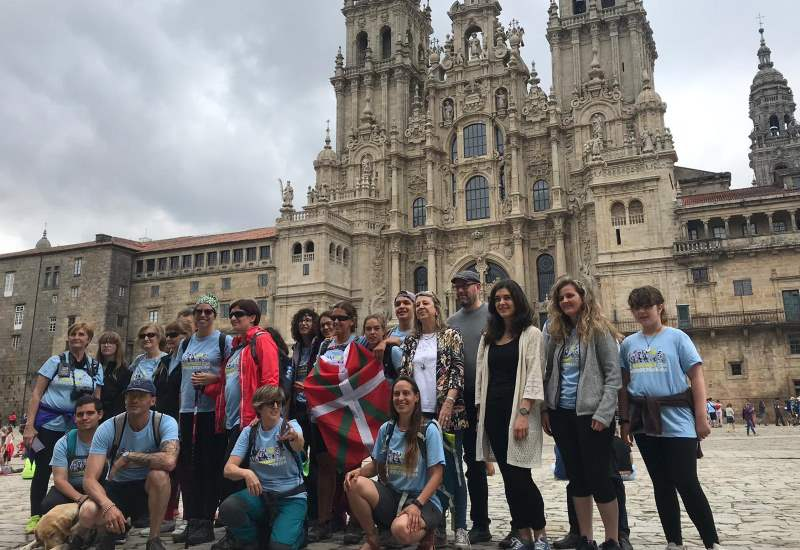person: (546, 278, 618, 388), (612, 284, 688, 377), (94, 381, 174, 455), (486, 282, 542, 386), (378, 375, 445, 461), (407, 283, 463, 363), (245, 385, 300, 458), (225, 300, 274, 367), (445, 271, 485, 336), (197, 288, 225, 362)
